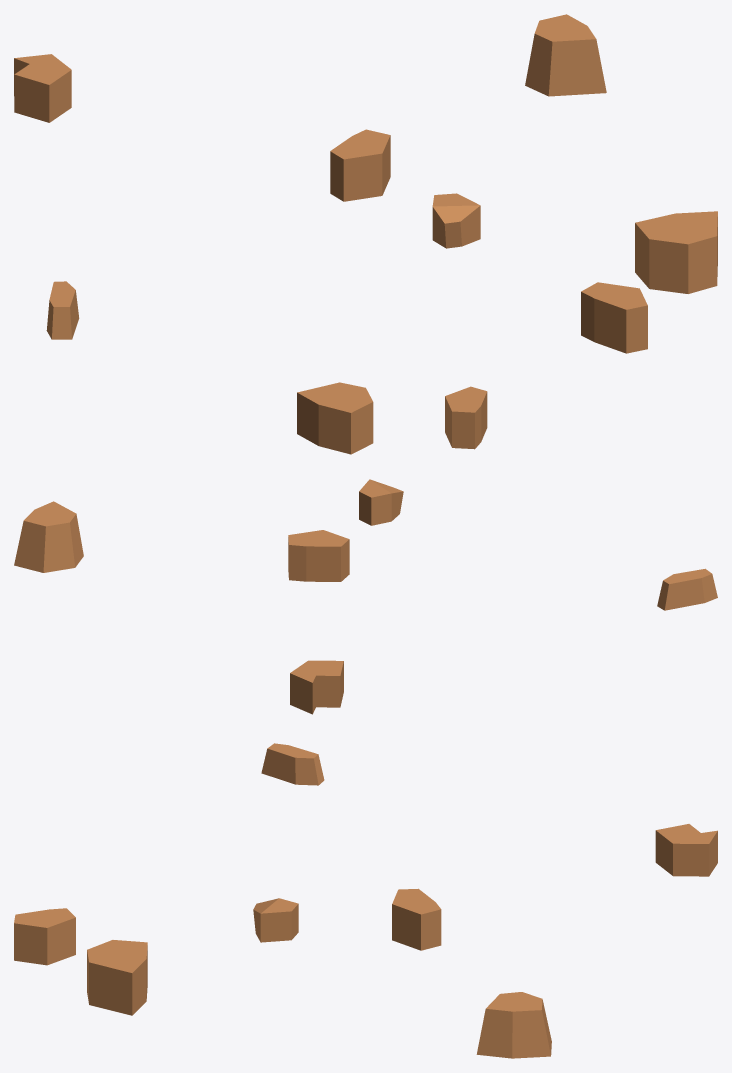
The model's file is SandRocks17_LOD1.fbx.
3 views of the same model, one above another, from view 1: azimuth 30°, elevation 25°; view 2: azimuth 150°, elevation 25°; view 3: azimuth 270°, elevation 25° (orthographic). The views are drawn at different scales.
Visible parts, largest first — view 1: 17; view 2: 17; view 3: 17.
Part boxes in pixels (<box>): 17: <box>14,14,717,353</box>; 17: <box>14,382,717,714</box>; 17: <box>14,743,717,1058</box>.
Bounding box in the file's own units: 136 × 10.11 × 142.
